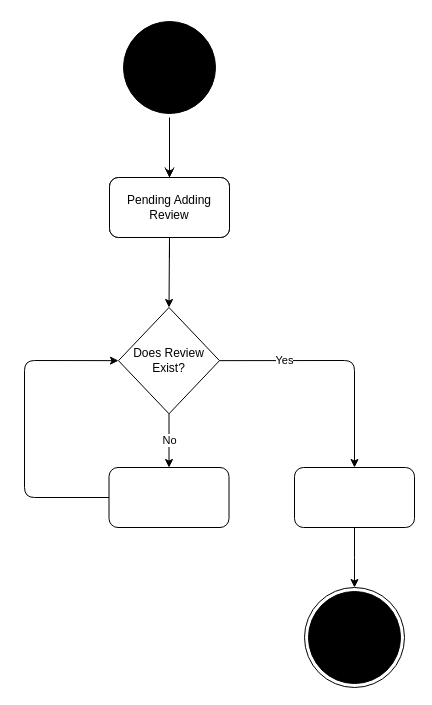
Some shapes in this 432 by 705 pixel diagram are drawn without their labels. Here are the shapes that lost their labels. From the top down, the box of each, then its label:
(108, 466, 229, 528): Check Review Details Again
(294, 466, 414, 528): Update Review Details
